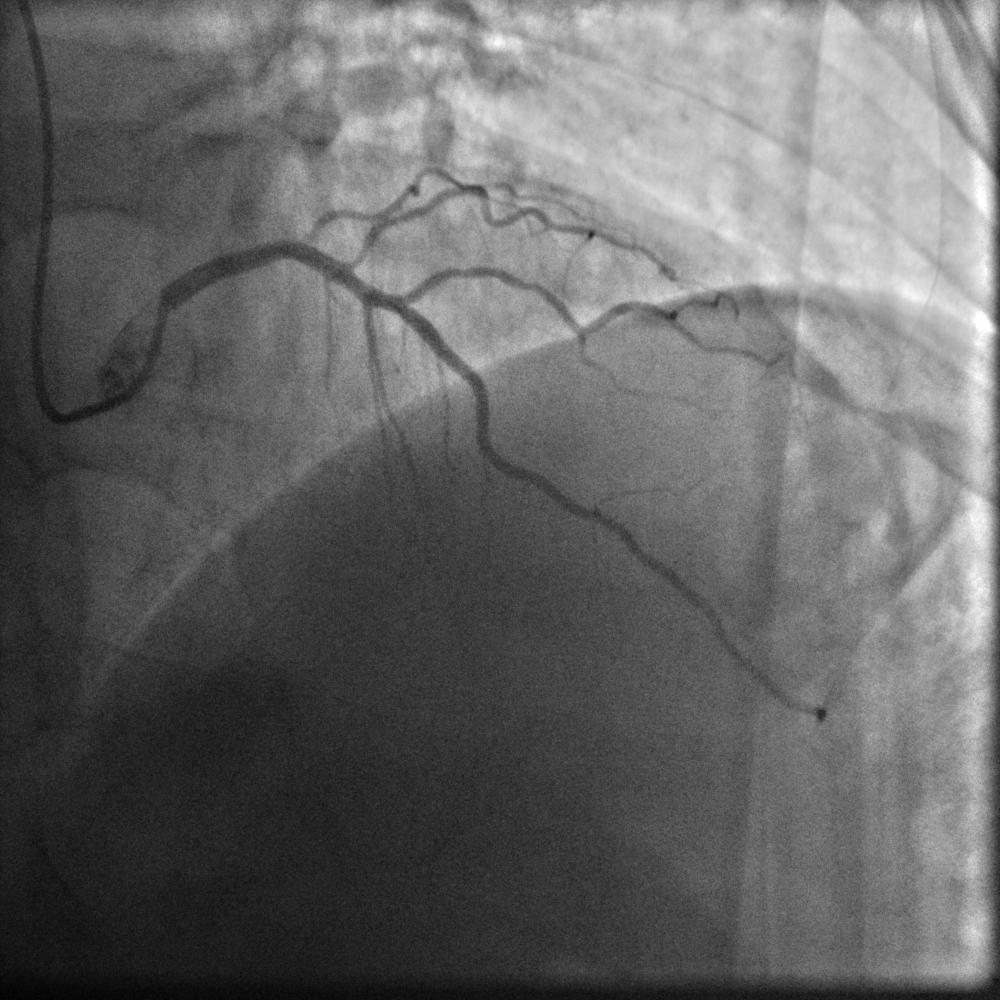Stenosis: (302, 210, 380, 270)
